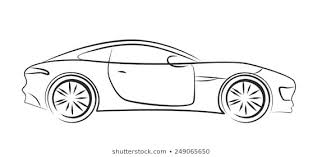car: (13, 33, 300, 131)
